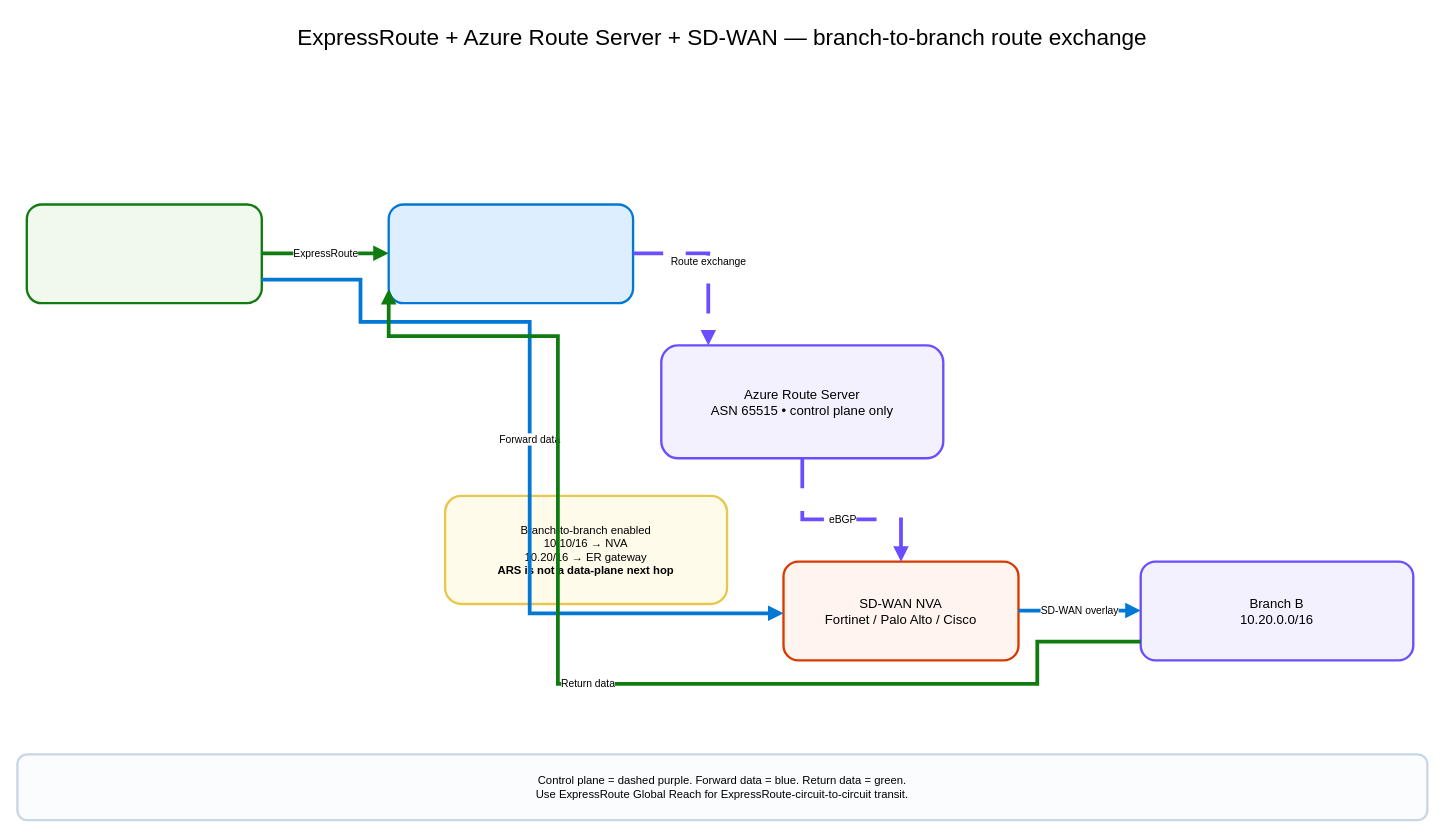
The diagram is 1445 pixels wide and 838 high, and some of its shapes have lost their labels. The centre of each missing label's shape, as x and y in pixels:
"Branch A 10.10.0.0/16" belongs at pixel 144 253.
"ExpressRoute Gateway GatewaySubnet" belongs at pixel 510 253.
